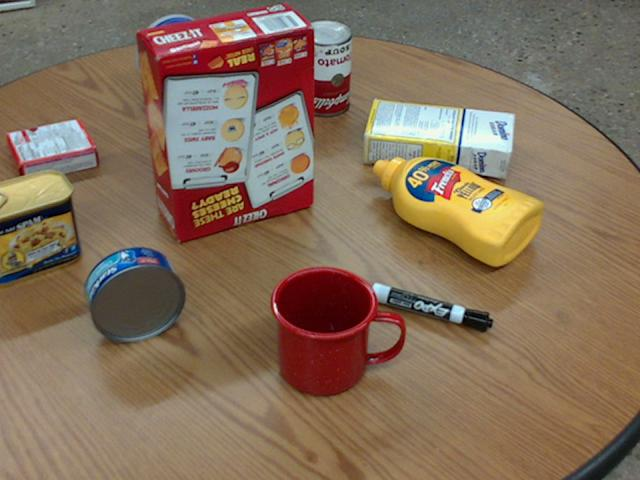cracker_box: (135, 6, 314, 241)
gelatin_box: (6, 119, 99, 183)
large_marker: (369, 282, 493, 331)
master_chef_can: (134, 15, 256, 136)
mug: (270, 265, 404, 396)
mustard_bottle: (372, 157, 542, 265)
potted_meat_can: (0, 170, 80, 287)
sugar_box: (362, 101, 514, 175)
tomato_soup_can: (296, 20, 349, 115)
tuna_fish_can: (84, 246, 184, 341)
